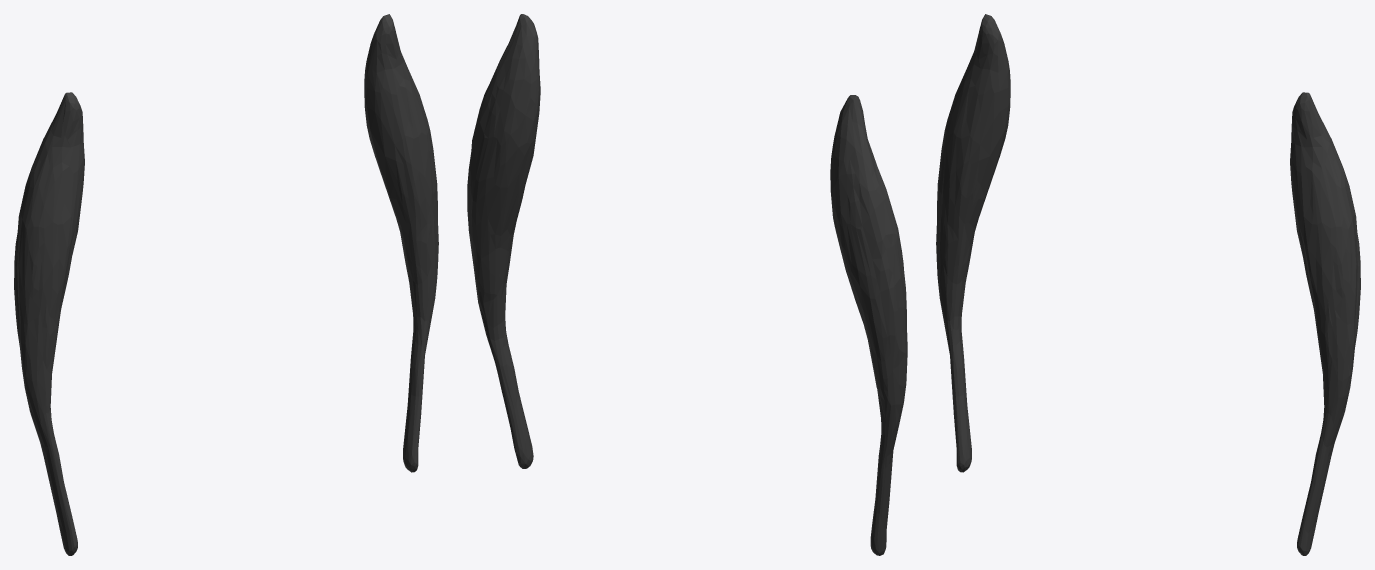
The model's file is m_digastricus_occipitomandibular.glb.
3 views of the same model, side by side, from view 1: azimuth 30°, elevation 25°; view 2: azimuth 150°, elevation 25°; view 3: azimuth 330°, elevation 25° (orthographic). The views are drawn at different scales.
Parts seen in each view (by area): view 1: m_digastricus_occipitomandibular; view 2: m_digastricus_occipitomandibular; view 3: m_digastricus_occipitomandibular.
Boxes of the visible parts, x1,y1,x2,y2 form: m_digastricus_occipitomandibular: (14, 14, 438, 555); m_digastricus_occipitomandibular: (467, 14, 907, 555); m_digastricus_occipitomandibular: (936, 14, 1360, 555).
Size of the model in its own units: 0.00236 by 0.00244 by 0.000335.
Materials: 1 (1 with a texture image).
